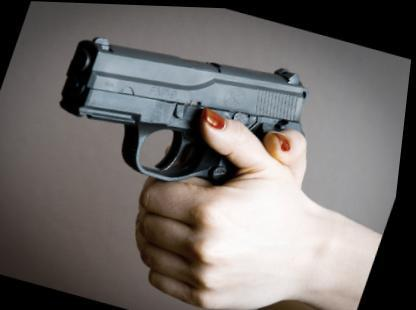pistol: (23, 1, 334, 230)
